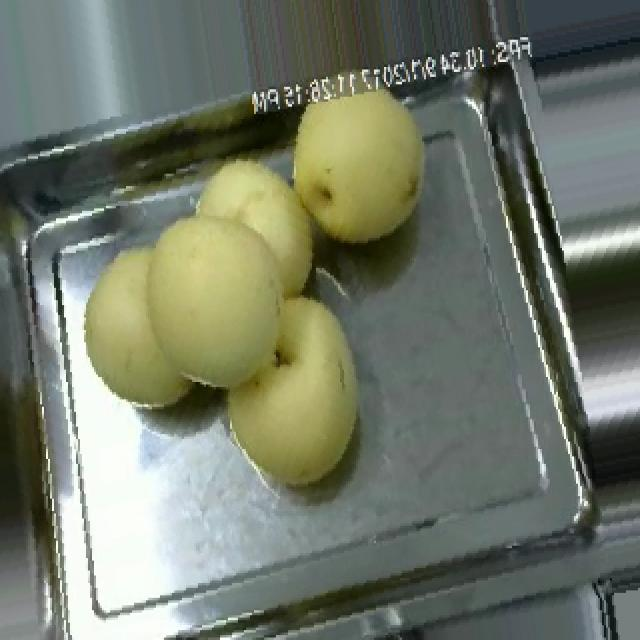Fruit: (64, 151, 346, 434), (202, 266, 392, 514), (264, 67, 448, 265)
